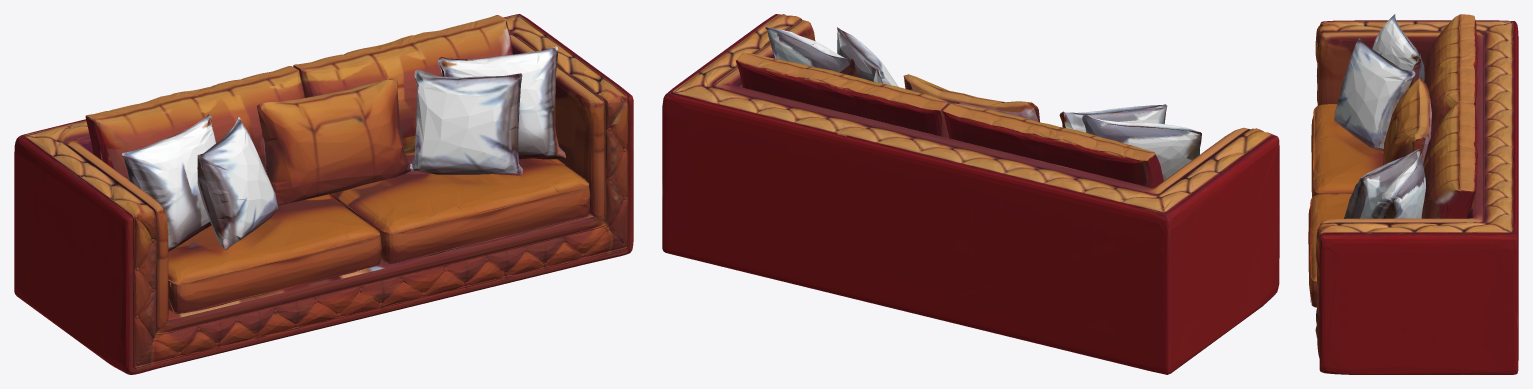
The model's file is edited_mesh.glb.
3 views of the same model, side by side, from view 1: azimuth 30°, elevation 25°; view 2: azimuth 150°, elevation 25°; view 3: azimuth 270°, elevation 25° (orthographic). The views are drawn at different scales.
Visible parts, largest first — view 1: solid_001_wire; view 2: solid_001_wire; view 3: solid_001_wire.
Boxes of the visible parts, <box> form: solid_001_wire: <box>14,14,633,374</box>; solid_001_wire: <box>662,14,1279,374</box>; solid_001_wire: <box>1308,14,1518,374</box>.
Size of the model in its own units: 2 by 0.7095 by 0.8163.
1 material, 1 textured.
